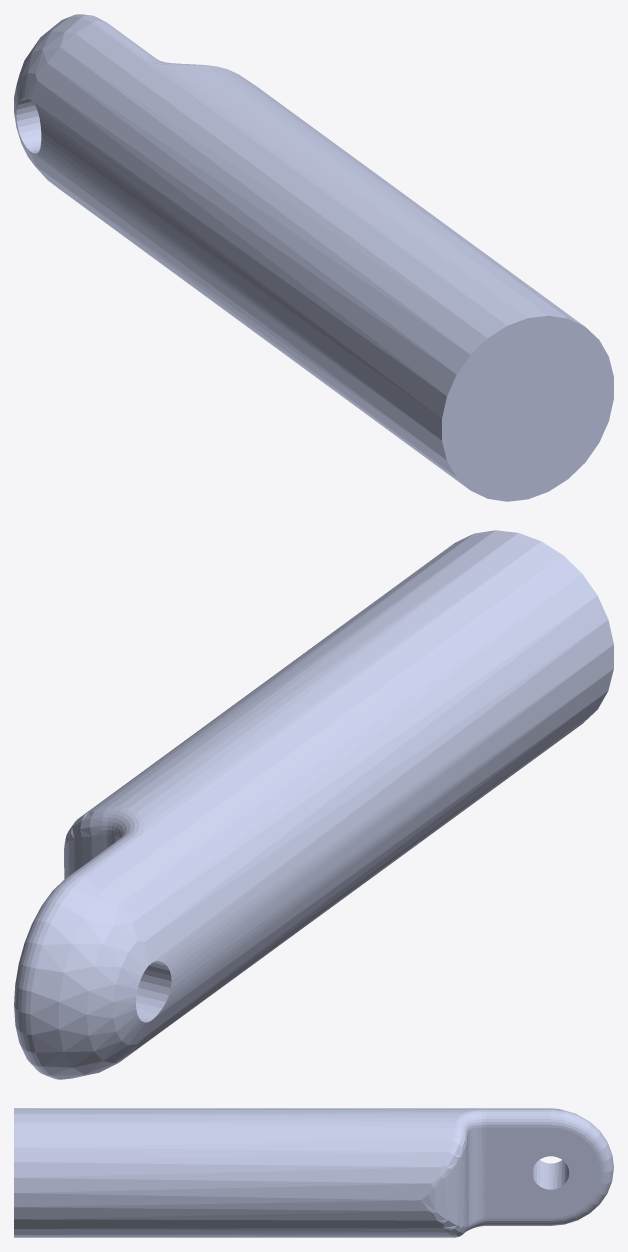
3 renders of one model, top to bottom at view 1: azimuth 30°, elevation 25°; view 2: azimuth 150°, elevation 25°; view 3: azimuth 270°, elevation 25°, orthographic. The views are drawn at different scales.
Parts seen in each view (by area): view 1: node0; view 2: node0; view 3: node0.
Part boxes in pixels (x1=…): node0: x1=14, y1=14, x2=613, y2=501; node0: x1=14, y1=530, x2=613, y2=1079; node0: x1=14, y1=1108, x2=613, y2=1237.
Bounding box in the file's own units: 0.07 × 0.3241 × 0.07.
